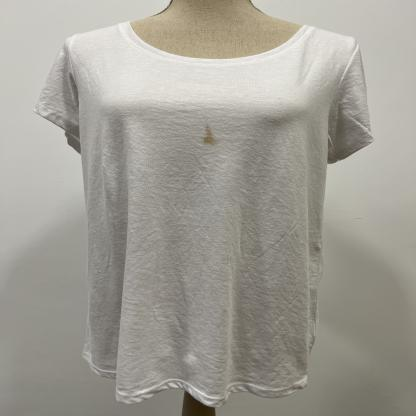stain: (197, 121, 225, 147)
